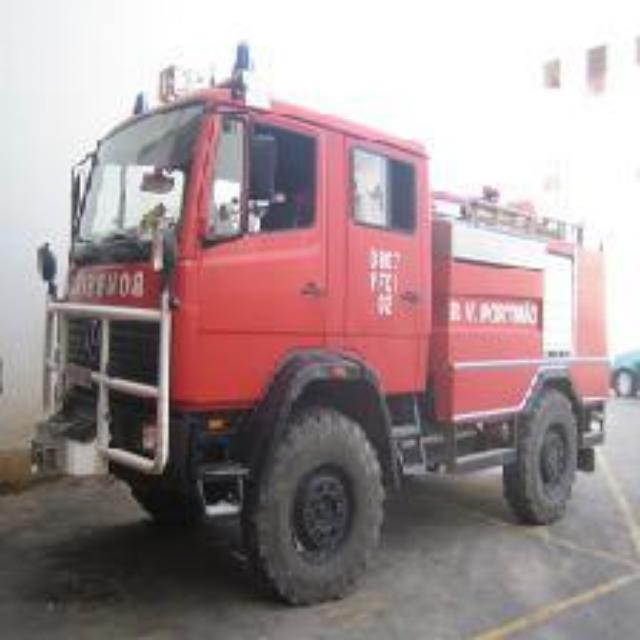emergency: (58, 61, 602, 581)
